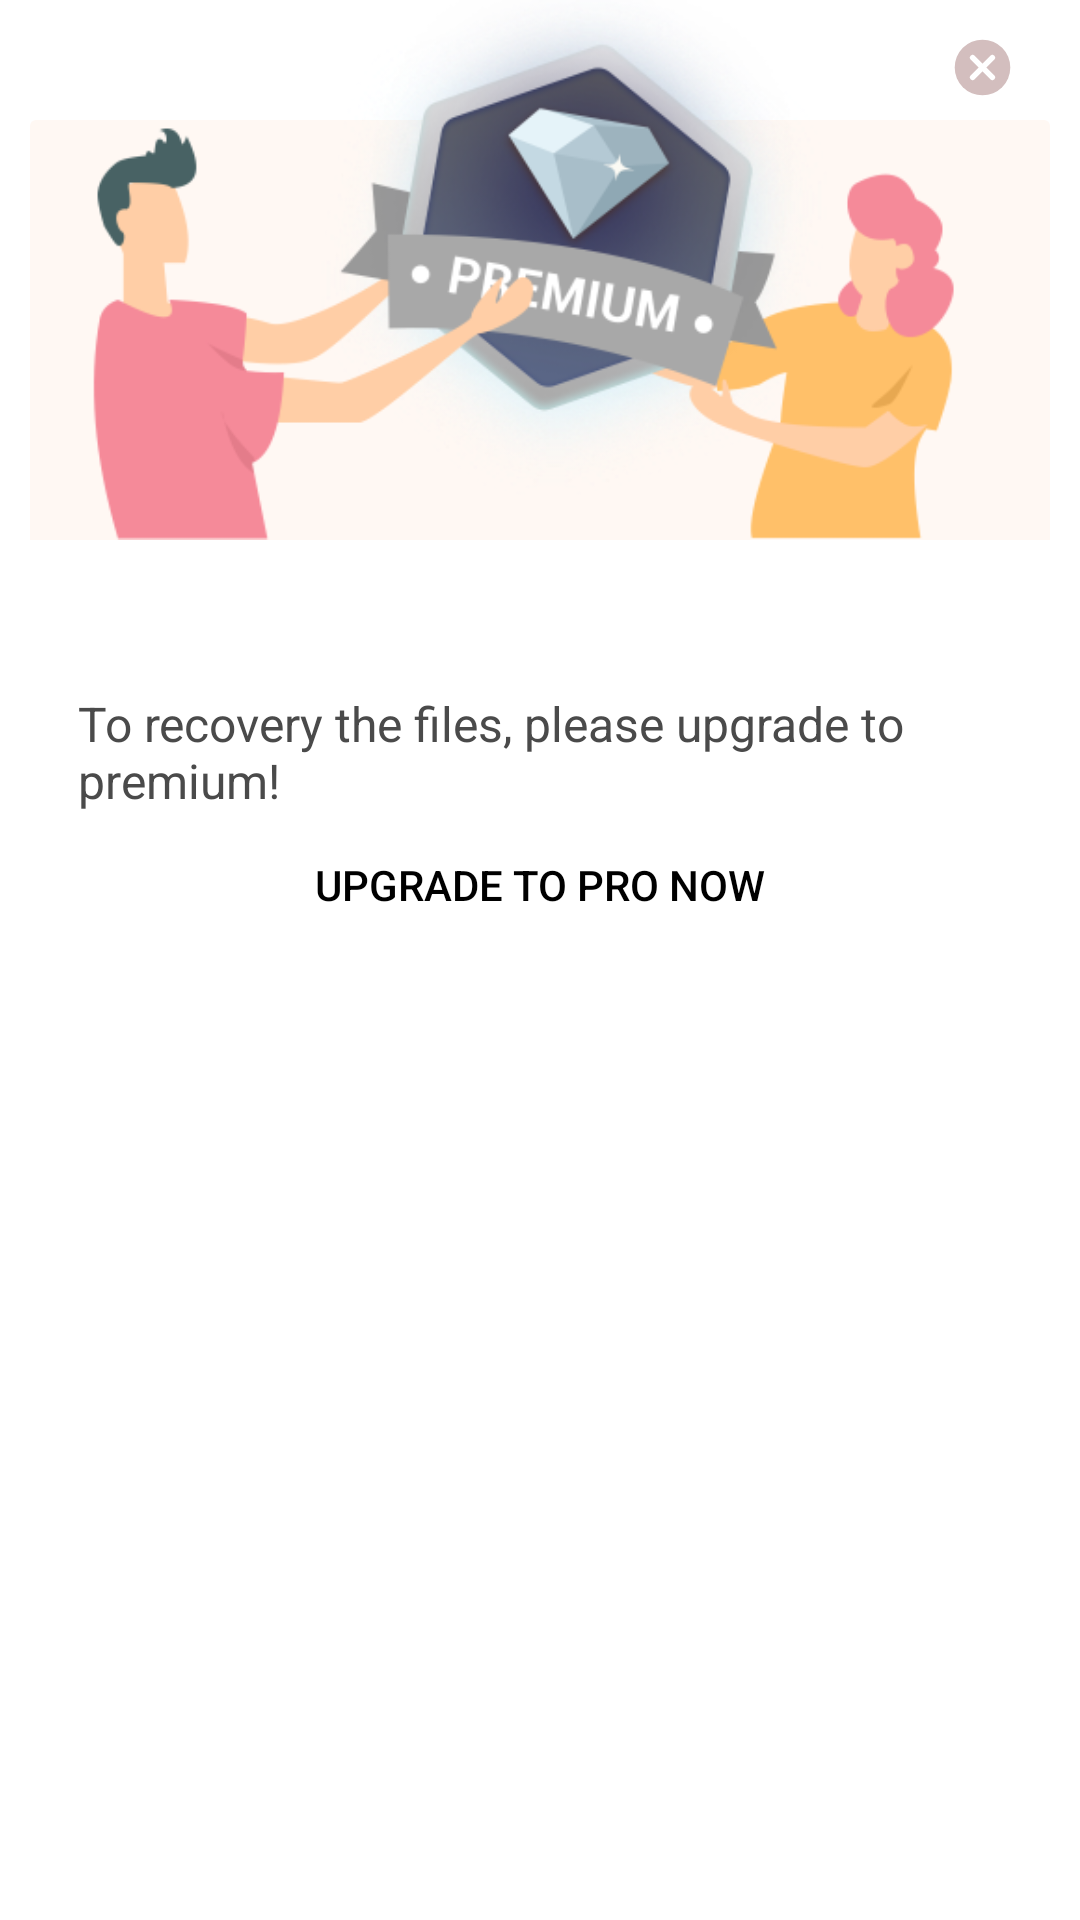

Screen size 1080px x 1920px. Icon name, then its center in pixels as (x,y):
close: (982,67)
